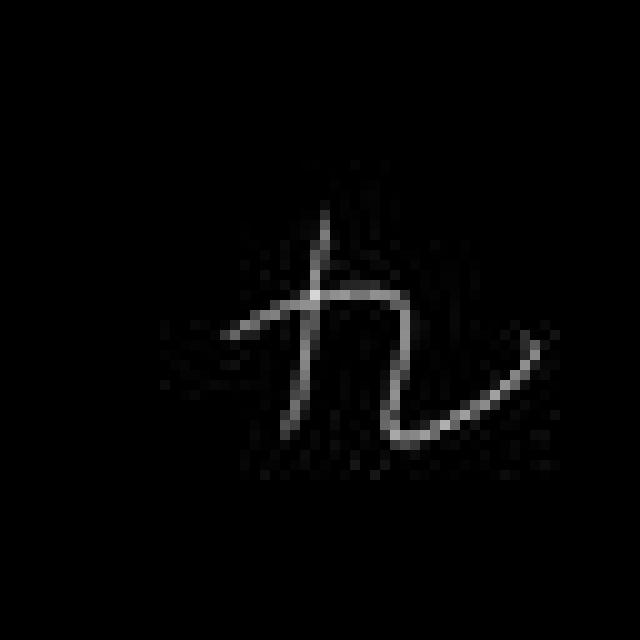9 -nine-: (212, 214, 555, 445)
